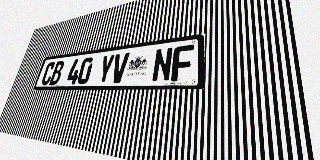0: (76, 57, 94, 84)
4: (65, 58, 83, 84)
B: (49, 60, 65, 85)
C: (40, 62, 56, 85)
F: (171, 44, 194, 81)
N: (151, 47, 173, 82)
V: (110, 52, 130, 83)
Y: (96, 54, 115, 84)
